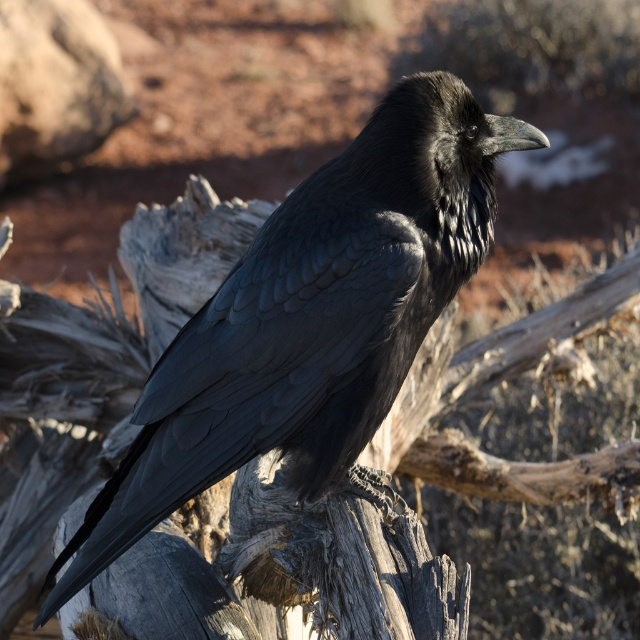Raven: (31, 71, 549, 632)
